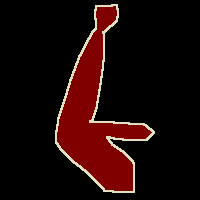tie: (56, 4, 154, 192)
